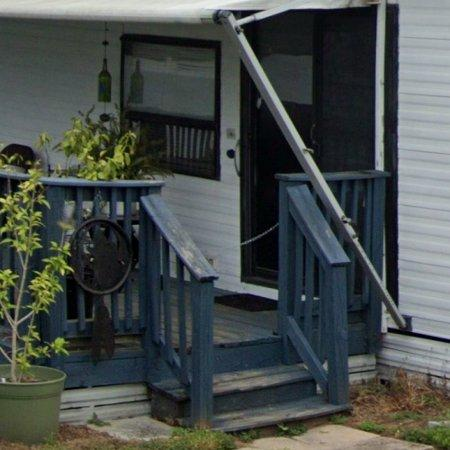stairs: (213, 306, 349, 432), (150, 384, 190, 424)
